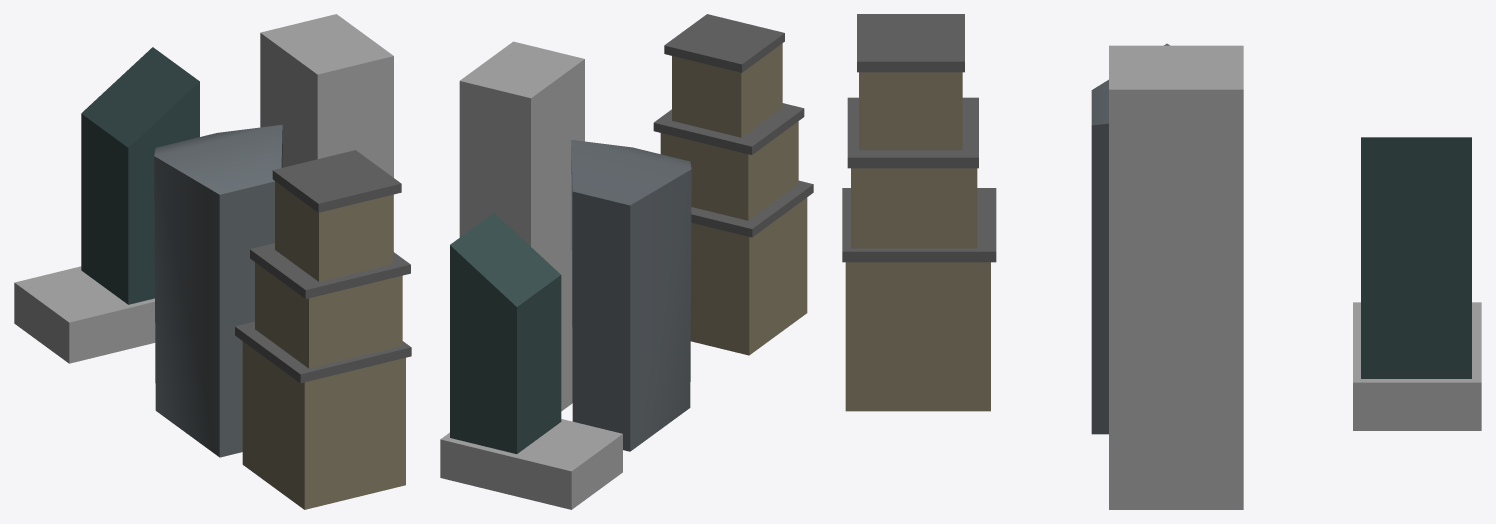
File: sky.fbx
3 views of the same model, side by side, from view 1: azimuth 30°, elevation 25°; view 2: azimuth 150°, elevation 25°; view 3: azimuth 270°, elevation 25° (orthographic). The views are drawn at different scales.
Parts seen in each view (by area): view 1: pCube3, pCube1, pCube5, pCube6, pasted__pasted__pCube1, pCube4, pasted__pCube1, pCube2, pasted__pCube2, pasted__pCube3; view 2: pCube3, pCube6, pCube5, pCube1, pCube4, pasted__pasted__pCube1, pasted__pCube1, pCube2, pasted__pCube2, pasted__pCube3; view 3: pCube6, pCube5, pCube1, pasted__pasted__pCube1, pasted__pCube1, pCube4, pCube2, pCube3, pasted__pCube3, pasted__pCube2.
Boxes of the visible parts, x1=… form: pCube3: x1=154, y1=124, x2=282, y2=457; pCube1: x1=242, y1=341, x2=405, y2=509; pCube5: x1=81, y1=47, x2=199, y2=304; pCube6: x1=260, y1=14, x2=393, y2=251; pasted__pasted__pCube1: x1=255, y1=262, x2=402, y2=368; pCube4: x1=14, y1=266, x2=155, y2=363; pasted__pCube1: x1=275, y1=181, x2=392, y2=281; pCube2: x1=272, y1=150, x2=401, y2=212; pasted__pCube2: x1=250, y1=243, x2=410, y2=298; pasted__pCube3: x1=235, y1=321, x2=411, y2=383; pCube3: x1=571, y1=140, x2=691, y2=451; pCube6: x1=459, y1=41, x2=584, y2=411; pCube5: x1=450, y1=213, x2=561, y2=453; pCube1: x1=690, y1=197, x2=807, y2=355; pCube4: x1=440, y1=419, x2=622, y2=509; pasted__pasted__pCube1: x1=660, y1=121, x2=798, y2=220; pasted__pCube1: x1=672, y1=43, x2=782, y2=137; pCube2: x1=664, y1=14, x2=784, y2=72; pasted__pCube2: x1=653, y1=103, x2=804, y2=154; pasted__pCube3: x1=691, y1=180, x2=813, y2=237; pCube6: x1=1109, y1=45, x2=1243, y2=509; pCube5: x1=1361, y1=137, x2=1471, y2=378; pCube1: x1=845, y1=262, x2=990, y2=411; pasted__pasted__pCube1: x1=851, y1=168, x2=977, y2=248; pasted__pCube1: x1=859, y1=72, x2=962, y2=150; pCube4: x1=1353, y1=302, x2=1481, y2=430; pCube2: x1=857, y1=14, x2=964, y2=72; pCube3: x1=1091, y1=43, x2=1169, y2=434; pasted__pCube3: x1=842, y1=188, x2=996, y2=262; pasted__pCube2: x1=847, y1=97, x2=978, y2=168.
Size of the model in its own units: 8.61 by 13.34 by 18.39.
